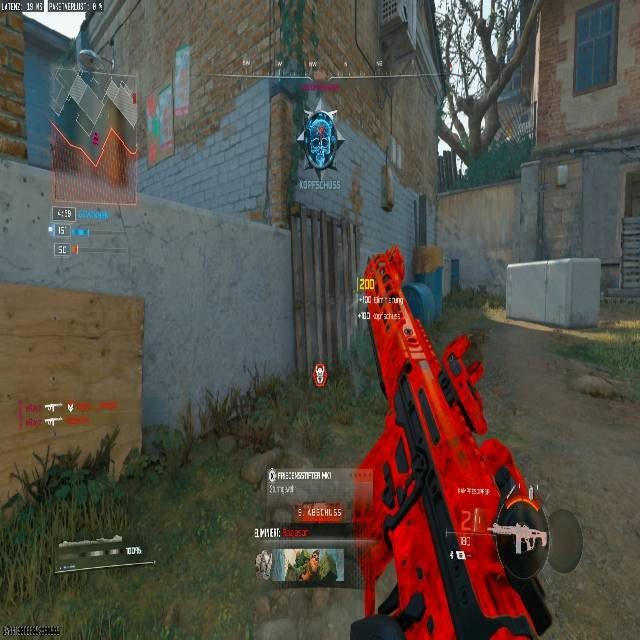player: (298, 99, 344, 178)
